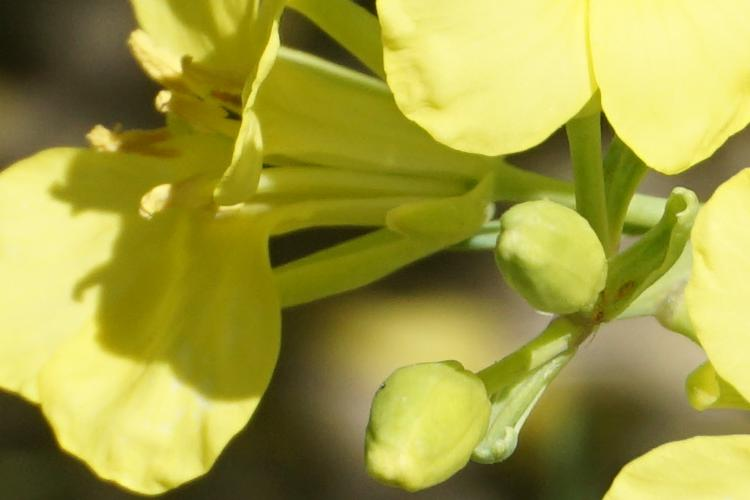bud: (351, 347, 489, 484), (496, 209, 615, 316)
yellow: (5, 5, 501, 464), (385, 5, 745, 172), (660, 174, 750, 466)
